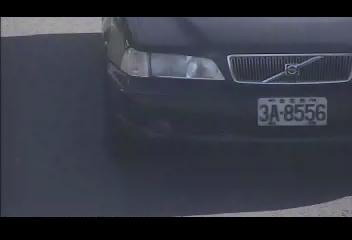plate: (255, 96, 329, 127)
